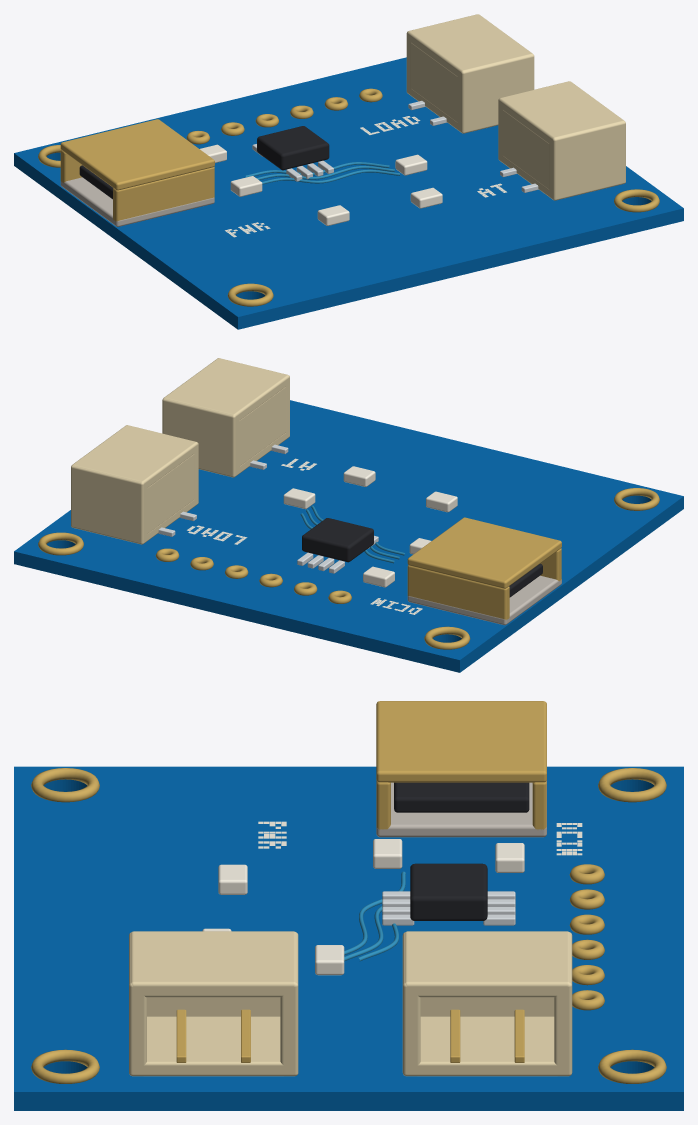
Rendered from components-30.glb.
3 renders of one model, top to bottom at view 1: azimuth 30°, elevation 25°; view 2: azimuth 150°, elevation 25°; view 3: azimuth 270°, elevation 25°, orthographic. The views are drawn at different scales.
Visible parts, largest first — view 1: board, usb, battery, load, chip, mounts, pads; view 2: board, usb, load, battery, chip, mounts, pads; view 3: board, load, battery, usb, chip, mounts, pads.
Part boxes in pixels (x1,y1,x2,y2): board: (14,57,683,329); usb: (60,119,214,226); battery: (498,81,625,200); load: (406,14,534,133); chip: (200,126,442,225); mounts: (38,145,659,306); pads: (186,88,382,144); board: (14,400,683,672); usb: (407,517,561,625); load: (71,425,198,544); battery: (162,358,289,477); chip: (283,466,457,587); mounts: (38,488,659,649); pads: (155,548,351,603); board: (14,766,683,1110); load: (402,931,572,1076); battery: (129,931,298,1076); usb: (376,701,546,837); chip: (202,839,524,975); mounts: (31,768,666,1083); pads: (569,864,604,1010).
Size of the model in its own units: 2.39 by 0.3905 by 2.08.
